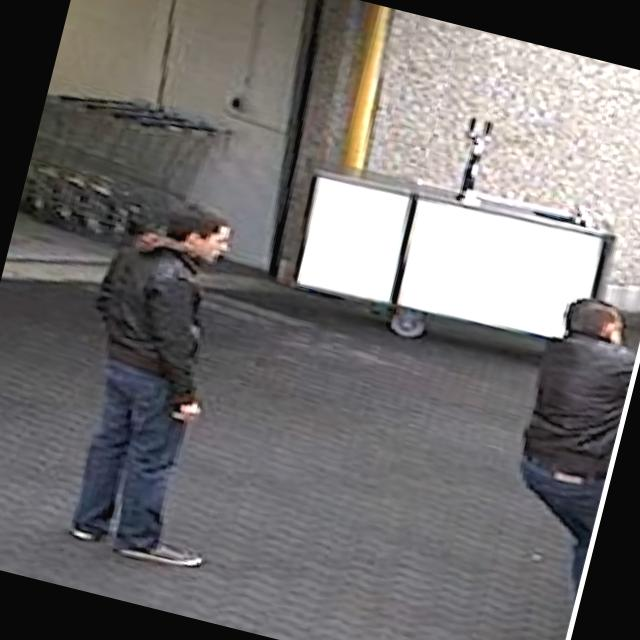person: (38, 185, 281, 570), (485, 286, 640, 593)
